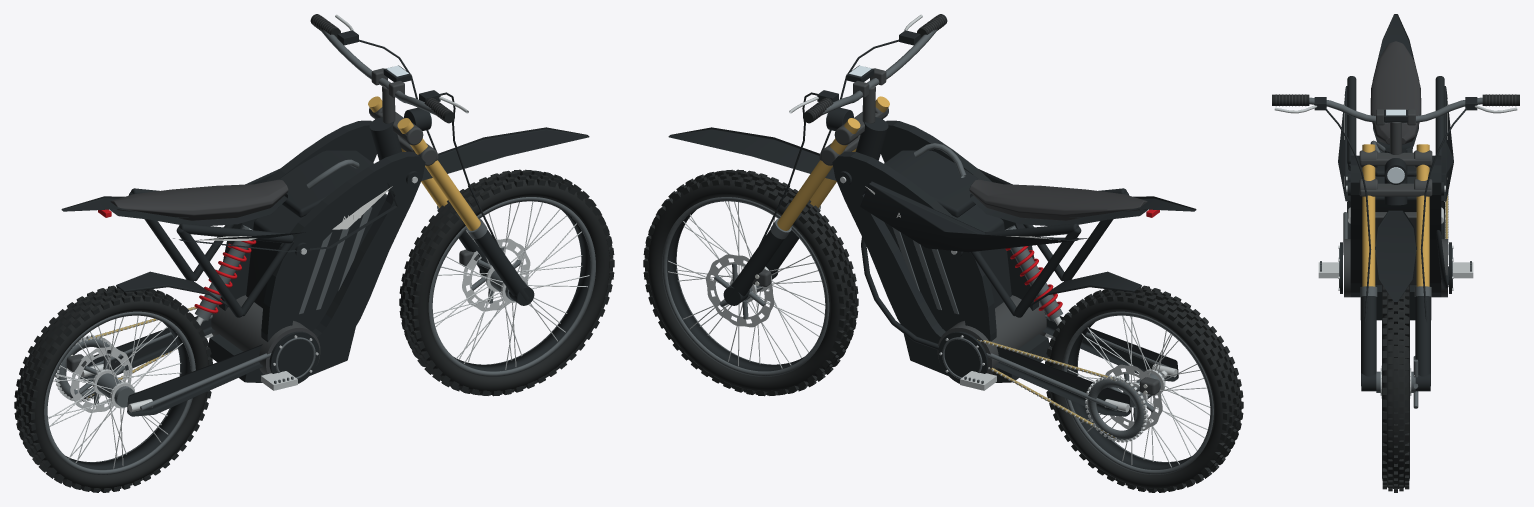
Rendered from altis-sigma.glb.
3 views of the same model, side by side, from view 1: azimuth 30°, elevation 25°; view 2: azimuth 150°, elevation 25°; view 3: azimuth 270°, elevation 25° (orthographic). The views are drawn at different scales.
Visible parts, largest first — view 1: Chassis | Satin black polymer, FrontWheel | Offroad tyre rubber, RearWheel | Offroad tyre rubber, RearSuspension | Satin black polymer, BatteryMount | Satin black polymer, Bodywork | Satin black polymer, Contoured narrow saddle, FrontWheel | Machined satin aluminium, RearWheel | Machined satin aluminium, FrontWheel | Anodized gunmetal, RearWheel | Anodized gunmetal, MotorMount | Satin black polymer (+14 smaller); view 2: FrontWheel | Offroad tyre rubber, Chassis | Satin black polymer, RearWheel | Offroad tyre rubber, Bodywork | Satin black polymer, RearSuspension | Satin black polymer, BatteryMount | Satin black polymer, Contoured narrow saddle, FrontWheel | Machined satin aluminium, MotorMount | Satin black polymer, FrontWheel | Anodized gunmetal, RearWheel | Machined satin aluminium, RearWheel | Anodized gunmetal (+16 smaller); view 3: FrontWheel | Offroad tyre rubber, Bodywork | Satin black polymer, Chassis | Satin black polymer, Contoured narrow saddle, Fork | Gold fork anodizing, Fork | Satin black polymer, Fork | Cast graphite aluminium, Cockpit | Satin black polymer, RearSuspension | Satin black polymer, MotorMount | Satin black polymer, Swept riser handlebar, Cockpit | Offroad tyre rubber (+10 smaller).
Part boxes in pixels (x1=…): Chassis | Satin black polymer: x1=219, y1=117, x2=425, y2=363; FrontWheel | Offroad tyre rubber: x1=399, y1=169, x2=614, y2=396; RearWheel | Offroad tyre rubber: x1=14, y1=285, x2=212, y2=492; RearSuspension | Satin black polymer: x1=80, y1=188, x2=294, y2=416; BatteryMount | Satin black polymer: x1=246, y1=150, x2=386, y2=331; Bodywork | Satin black polymer: x1=61, y1=127, x2=589, y2=306; Contoured narrow saddle: x1=110, y1=179, x2=288, y2=220; FrontWheel | Machined satin aluminium: x1=433, y1=201, x2=589, y2=369; RearWheel | Machined satin aluminium: x1=48, y1=315, x2=182, y2=468; FrontWheel | Anodized gunmetal: x1=428, y1=197, x2=595, y2=376; RearWheel | Anodized gunmetal: x1=44, y1=311, x2=195, y2=474; MotorMount | Satin black polymer: x1=208, y1=327, x2=355, y2=383; FrontWheel | Offroad tyre rubber: x1=643, y1=169, x2=858, y2=396; Chassis | Satin black polymer: x1=832, y1=117, x2=1039, y2=363; RearWheel | Offroad tyre rubber: x1=1045, y1=285, x2=1243, y2=492; Bodywork | Satin black polymer: x1=668, y1=127, x2=1196, y2=306; RearSuspension | Satin black polymer: x1=970, y1=188, x2=1178, y2=416; BatteryMount | Satin black polymer: x1=884, y1=150, x2=1011, y2=331; Contoured narrow saddle: x1=969, y1=179, x2=1147, y2=220; FrontWheel | Machined satin aluminium: x1=668, y1=201, x2=825, y2=368; MotorMount | Satin black polymer: x1=861, y1=237, x2=1049, y2=383; FrontWheel | Anodized gunmetal: x1=662, y1=197, x2=829, y2=376; RearWheel | Machined satin aluminium: x1=1067, y1=315, x2=1210, y2=467; RearWheel | Anodized gunmetal: x1=1062, y1=311, x2=1213, y2=474; FrontWheel | Offroad tyre rubber: x1=1382, y1=285, x2=1409, y2=492; Bodywork | Satin black polymer: x1=1338, y1=14, x2=1453, y2=301; Chassis | Satin black polymer: x1=1348, y1=149, x2=1443, y2=297; Contoured narrow saddle: x1=1370, y1=41, x2=1421, y2=144; Fork | Gold fork anodizing: x1=1362, y1=144, x2=1429, y2=286; Fork | Satin black polymer: x1=1361, y1=296, x2=1430, y2=391; Fork | Cast graphite aluminium: x1=1359, y1=150, x2=1432, y2=196; Cockpit | Satin black polymer: x1=1314, y1=97, x2=1477, y2=322; RearSuspension | Satin black polymer: x1=1347, y1=76, x2=1444, y2=238; MotorMount | Satin black polymer: x1=1340, y1=230, x2=1451, y2=320; Swept riser handlebar: x1=1309, y1=97, x2=1482, y2=123; Cockpit | Offroad tyre rubber: x1=1272, y1=94, x2=1519, y2=105.
Size of the model in its own units: 1.92 by 1.12 by 0.756.
